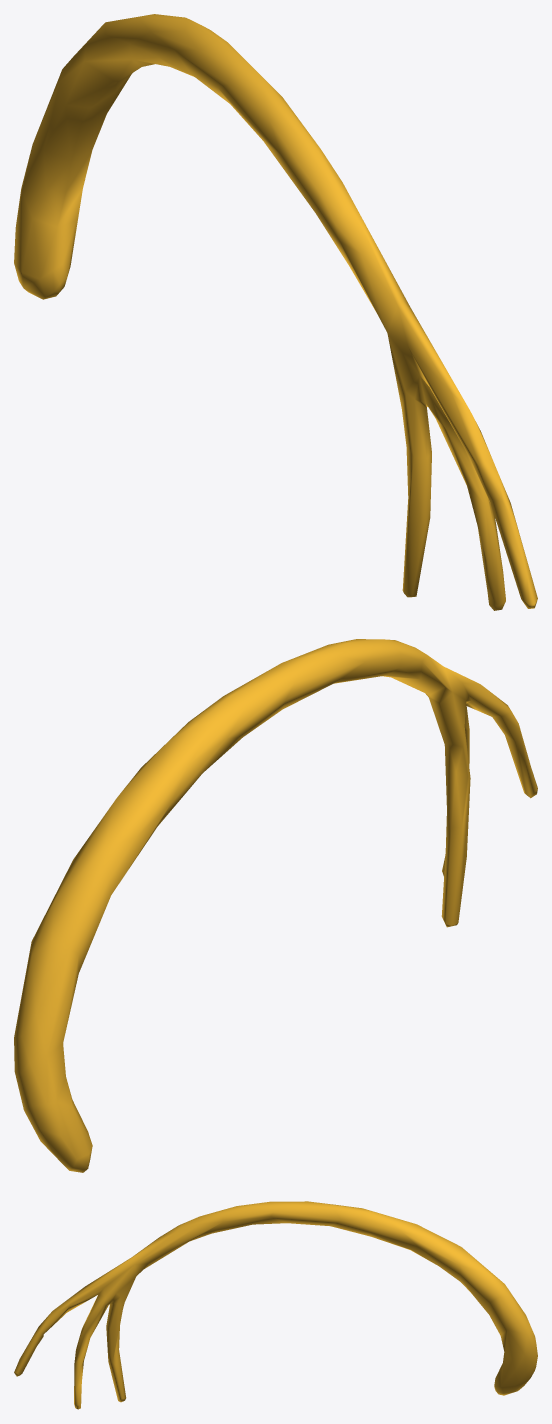
The model's file is nervoso-stria-medullaris-thalami-l.glb.
3 views of the same model, one above another, from view 1: azimuth 30°, elevation 25°; view 2: azimuth 150°, elevation 25°; view 3: azimuth 270°, elevation 25° (orthographic). The views are drawn at different scales.
Parts seen in each view (by area): view 1: Stria medullaris thalami.l; view 2: Stria medullaris thalami.l; view 3: Stria medullaris thalami.l.
Boxes of the visible parts, left/top/right/bottom form: Stria medullaris thalami.l: left=14, top=14, right=537, bottom=610; Stria medullaris thalami.l: left=14, top=639, right=537, bottom=1172; Stria medullaris thalami.l: left=14, top=1201, right=537, bottom=1409.
Bounding box in the file's own units: 0.00369 × 0.0151 × 0.0357.
